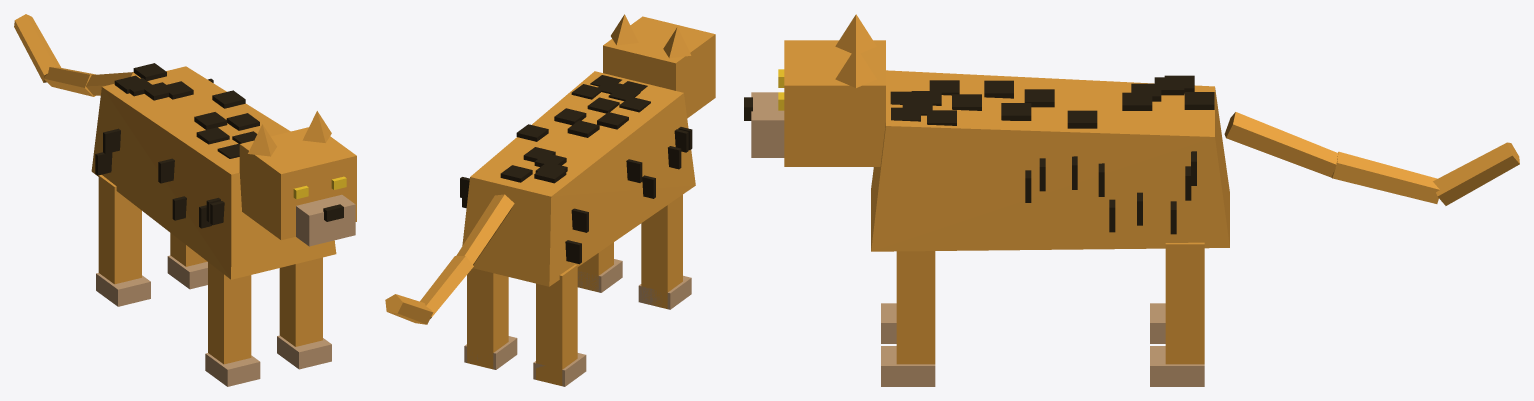
The model's file is jaguar.glb.
The picture shows the model from 3 angles, left to right: view 1: azimuth 30°, elevation 25°; view 2: azimuth 150°, elevation 25°; view 3: azimuth 270°, elevation 25°; orthographic projection. The views are drawn at different scales.
Parts seen in each view (by area): view 1: jaguar, Head_jaguar, jaguar_spot, Leg0_jaguar, Leg2_jaguar, Leg3_jaguar, Tail_jaguar, Head_fur_light, Leg2_fur_light, Leg0_fur_light, Leg3_fur_light, Leg1_fur_light (+2 smaller); view 2: jaguar, Head_jaguar, jaguar_spot, Leg0_jaguar, Tail_jaguar, Leg2_jaguar, Leg1_jaguar, Leg3_jaguar, Leg2_fur_light, Leg3_fur_light, Leg0_fur_light, Leg1_fur_light; view 3: jaguar, Head_jaguar, jaguar_spot, Tail_jaguar, Leg1_jaguar, Leg3_jaguar, Head_fur_light, Leg1_fur_light, Leg3_fur_light, Leg0_fur_light, Leg2_fur_light.
Boxes of the visible parts, left/top/right/bottom form: jaguar: left=91, top=66, right=336, bottom=279; Head_jaguar: left=239, top=111, right=356, bottom=240; jaguar_spot: left=95, top=63, right=259, bottom=228; Leg0_jaguar: left=98, top=175, right=141, bottom=284; Leg2_jaguar: left=208, top=262, right=251, bottom=364; Leg3_jaguar: left=279, top=257, right=322, bottom=346; Tail_jaguar: left=14, top=14, right=139, bottom=96; Head_fur_light: left=296, top=194, right=355, bottom=246; Leg2_fur_light: left=205, top=353, right=260, bottom=386; Leg0_fur_light: left=96, top=273, right=150, bottom=306; Leg3_fur_light: left=277, top=335, right=331, bottom=369; Leg1_fur_light: left=167, top=255, right=207, bottom=289; jaguar: left=462, top=71, right=695, bottom=286; Head_jaguar: left=603, top=14, right=715, bottom=118; jaguar_spot: left=460, top=75, right=692, bottom=264; Leg0_jaguar: left=536, top=264, right=577, bottom=385; Tail_jaguar: left=385, top=194, right=514, bottom=324; Leg2_jaguar: left=641, top=194, right=682, bottom=308; Leg1_jaguar: left=467, top=268, right=508, bottom=369; Leg3_jaguar: left=577, top=242, right=613, bottom=291; Leg2_fur_light: left=638, top=275, right=691, bottom=309; Leg3_fur_light: left=578, top=259, right=622, bottom=292; Leg0_fur_light: left=533, top=353, right=586, bottom=386; Leg1_fur_light: left=464, top=336, right=517, bottom=369; jaguar: left=871, top=70, right=1229, bottom=251; Head_jaguar: left=784, top=14, right=885, bottom=166; jaguar_spot: left=890, top=75, right=1214, bottom=234; Tail_jaguar: left=1224, top=112, right=1519, bottom=205; Leg1_jaguar: left=1165, top=242, right=1204, bottom=364; Leg3_jaguar: left=896, top=251, right=935, bottom=364; Head_fur_light: left=751, top=92, right=784, bottom=157; Leg1_fur_light: left=1150, top=346, right=1204, bottom=386; Leg3_fur_light: left=881, top=346, right=935, bottom=386; Leg0_fur_light: left=1150, top=303, right=1165, bottom=343; Leg2_fur_light: left=881, top=303, right=896, bottom=343.
Size of the model in its own units: 0.57 by 1.2 by 2.59.
